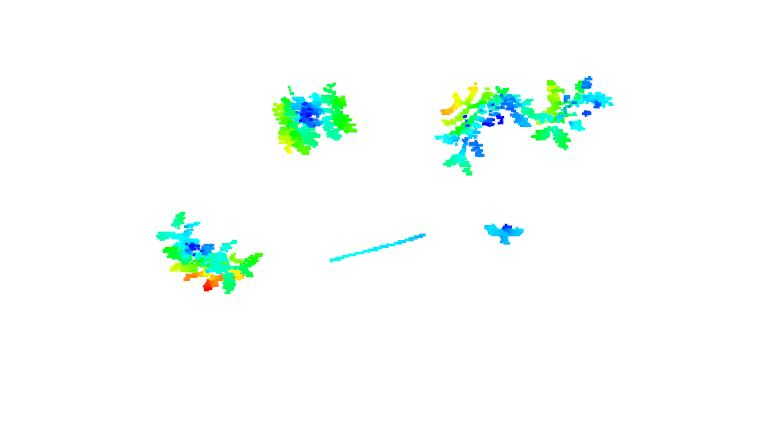chickpea: (434, 77, 536, 177), (159, 212, 260, 291), (273, 78, 358, 157), (534, 74, 614, 152), (478, 218, 525, 252)
